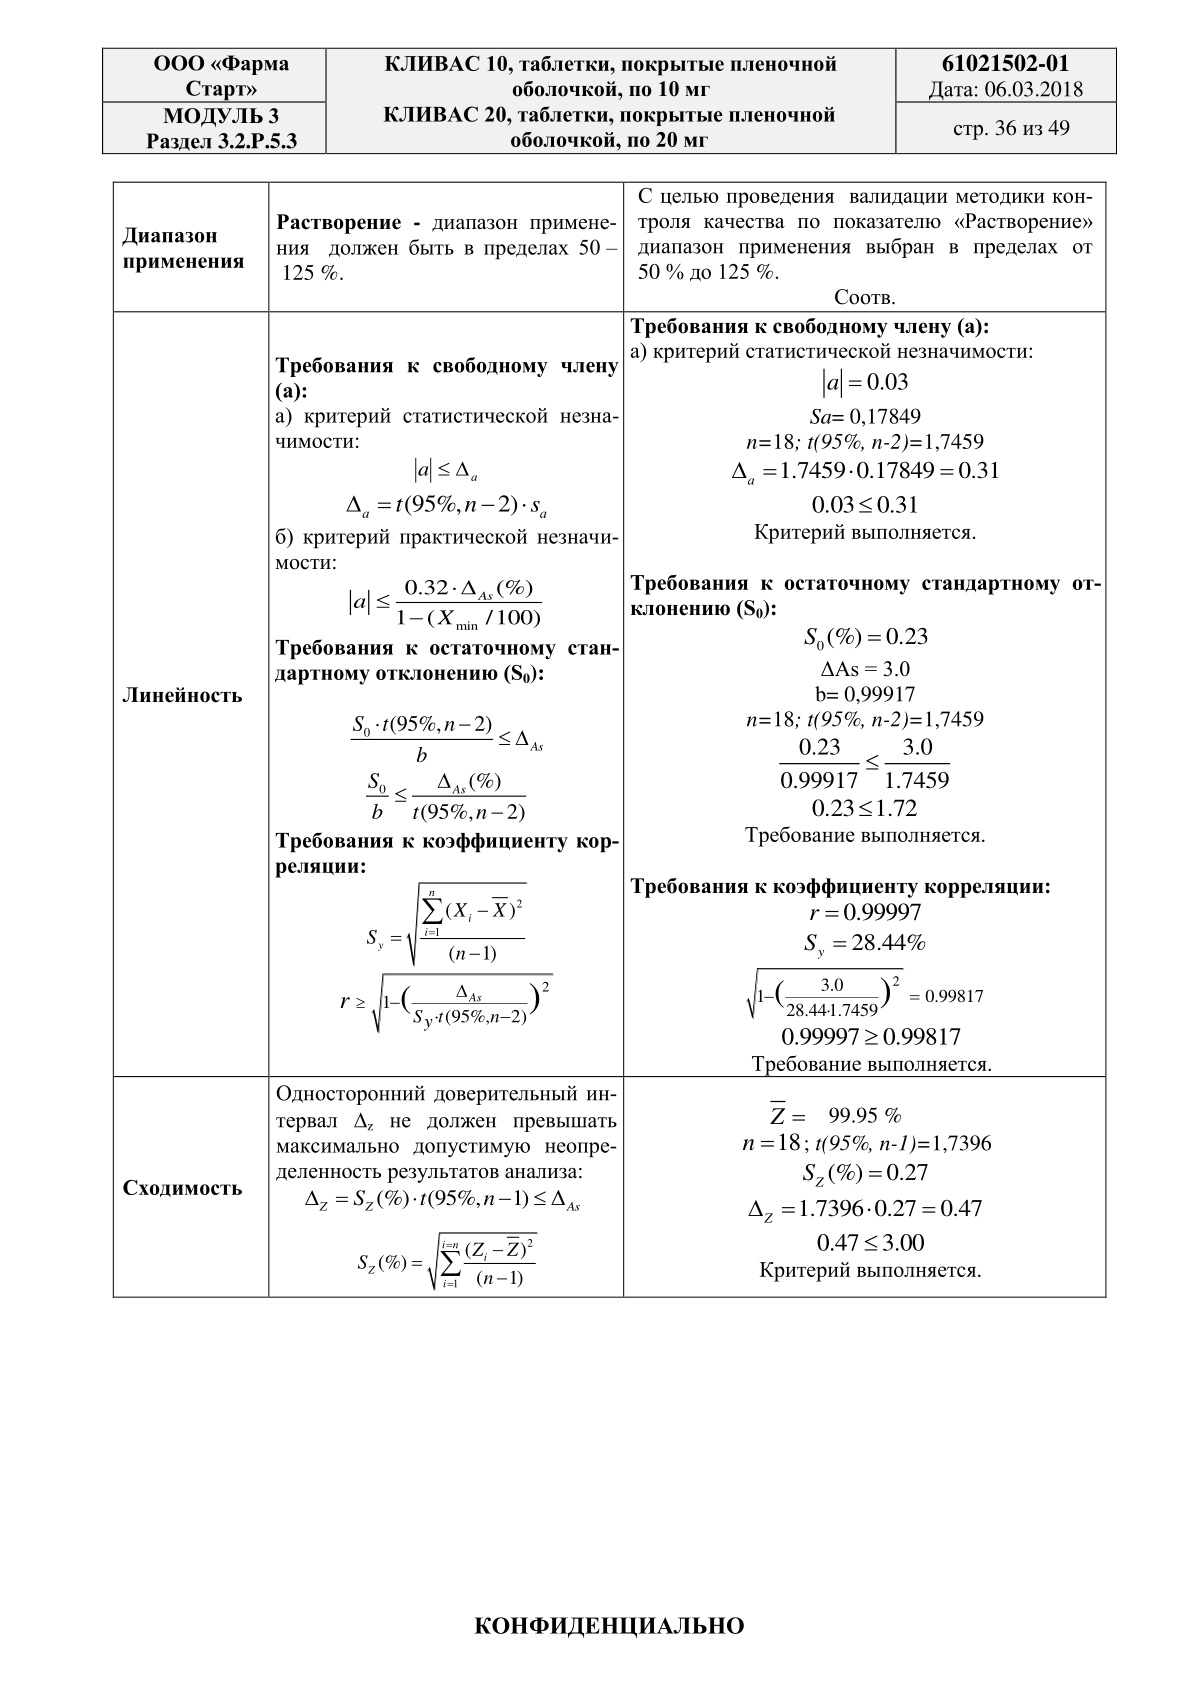full_lined: (112, 180, 1107, 1300)
merged_cells: (101, 46, 1118, 155)
